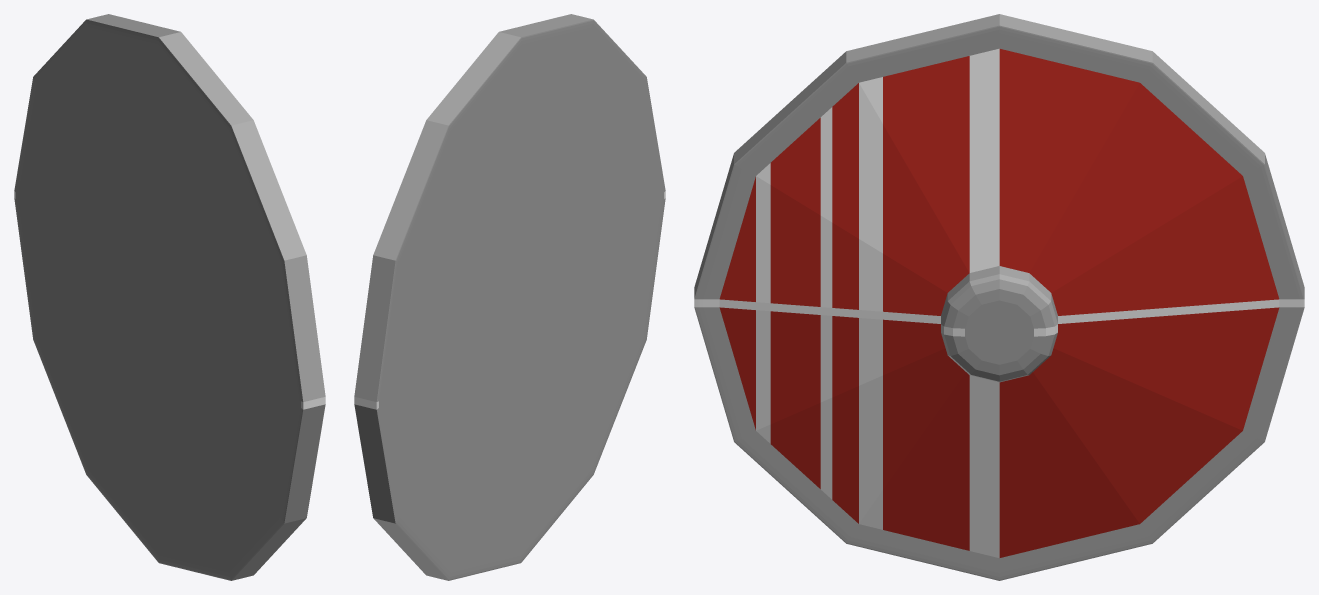
Rendered from Tier05Shield.fbx.
3 views of the same model, side by side, from view 1: azimuth 30°, elevation 25°; view 2: azimuth 150°, elevation 25°; view 3: azimuth 270°, elevation 25° (orthographic). The views are drawn at different scales.
Visible parts, largest first — view 1: Tier05Shield; view 2: Tier05Shield; view 3: Tier05Shield.
Boxes of the visible parts, x1,y1,x2,y2 form: Tier05Shield: [14, 14, 325, 580]; Tier05Shield: [354, 14, 665, 580]; Tier05Shield: [694, 14, 1304, 580].
Size of the model in its own units: 31.74 by 200 by 199.
